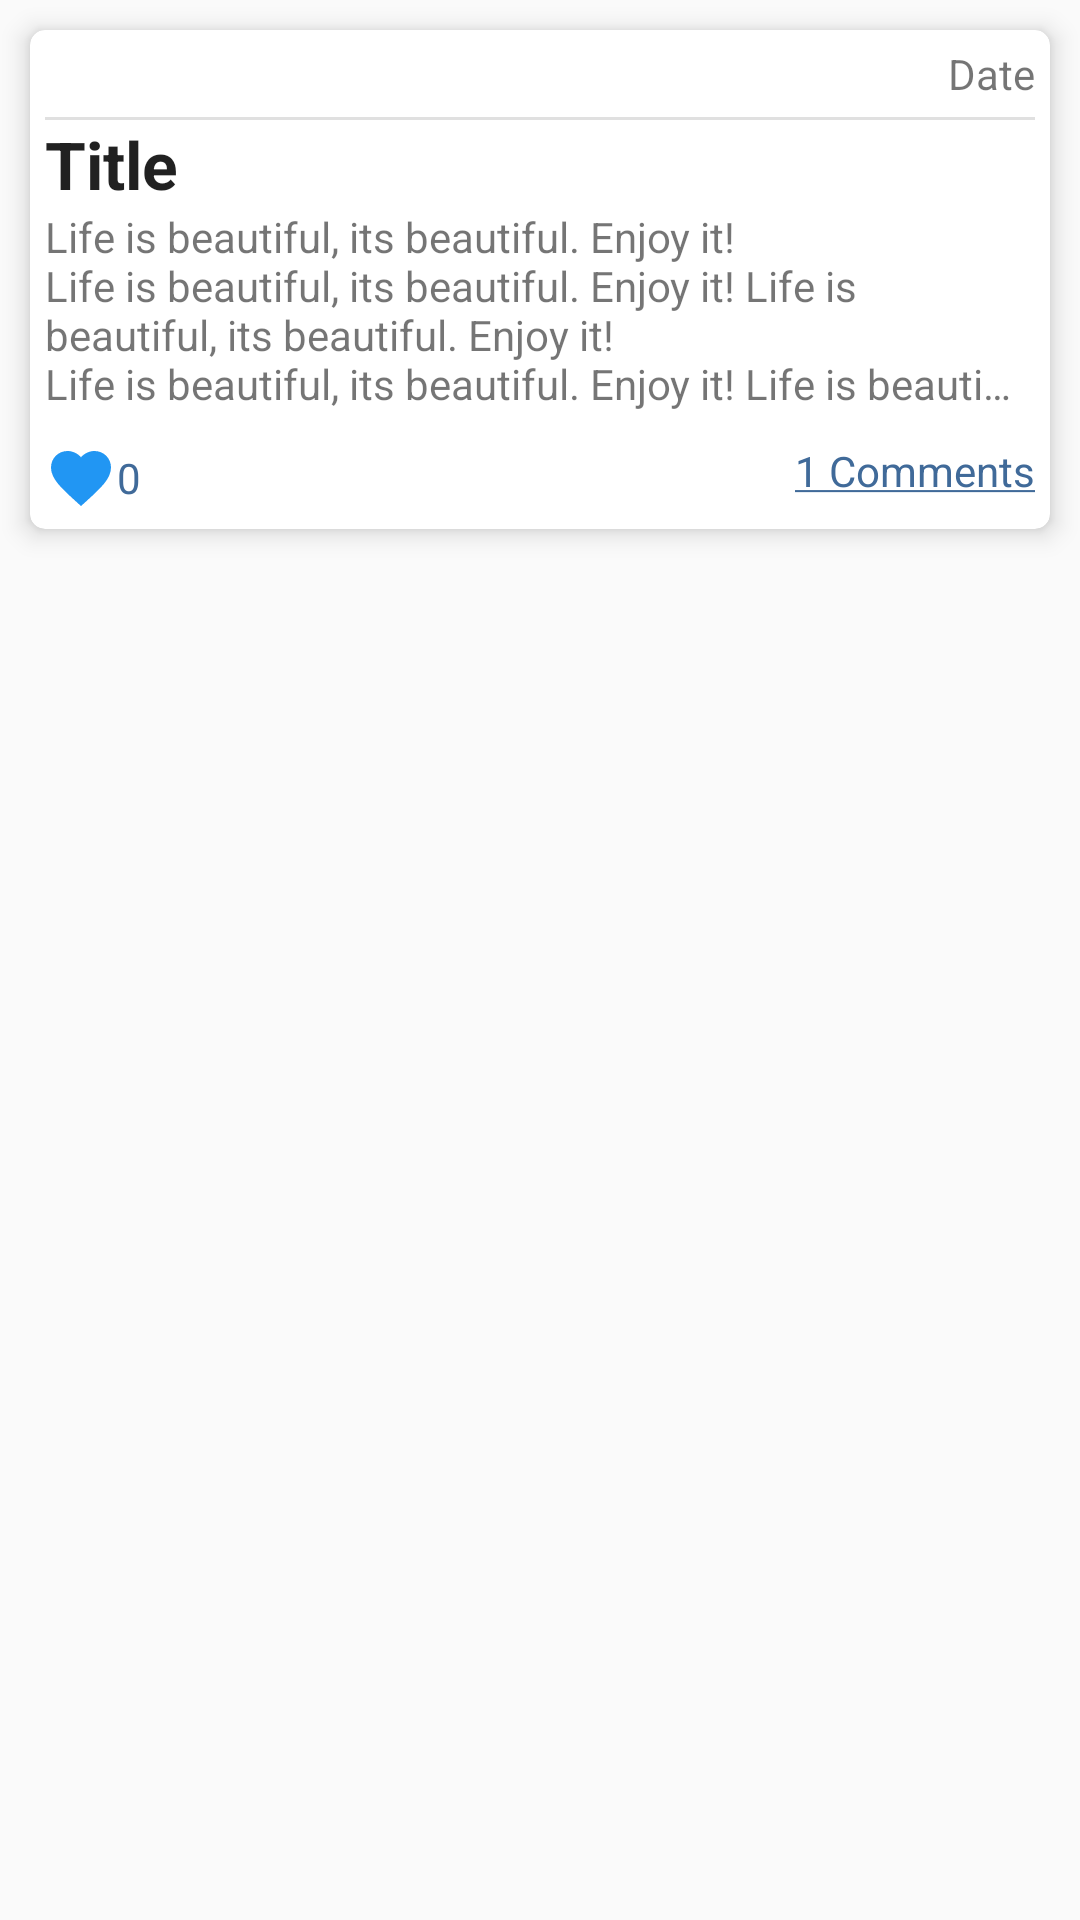

Named icons in this screenshot (1080 × 1920) and their centers, (x,y):
Like button: (81,478)
